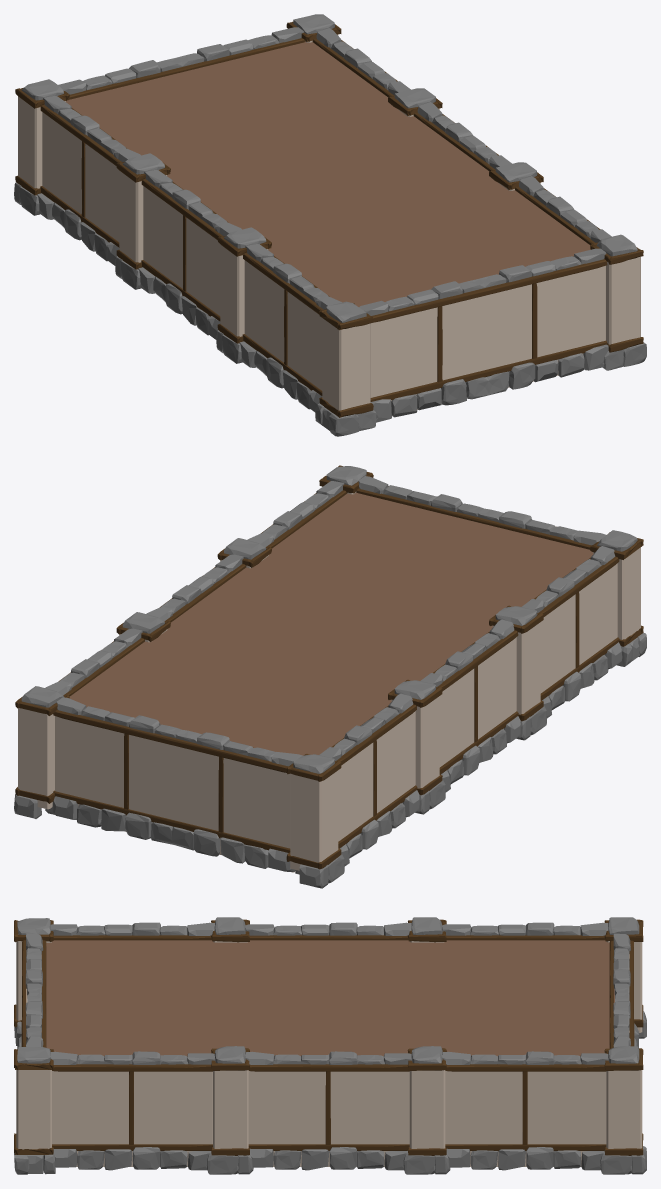
Rendered from SM_platform_02.fbx.
3 renders of one model, top to bottom at view 1: azimuth 30°, elevation 25°; view 2: azimuth 150°, elevation 25°; view 3: azimuth 270°, elevation 25°, orthographic. The views are drawn at different scales.
Parts seen in each view (by area): view 1: Object32350; view 2: Object32350; view 3: Object32350.
Boxes of the visible parts, box(x1,y1,x2,y2) form: Object32350: box(14, 14, 646, 436); Object32350: box(14, 465, 646, 888); Object32350: box(14, 917, 646, 1174).
Bounding box in the file's own units: 331 × 119 × 597.
